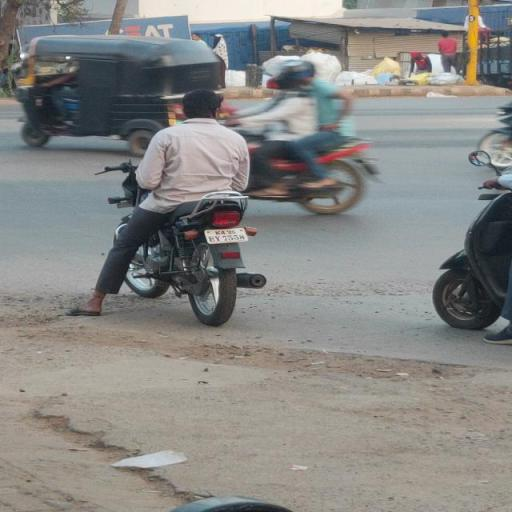bike: (91, 87, 272, 325)
numberplate: (206, 227, 248, 244)
withouthelmet: (184, 90, 222, 119)
